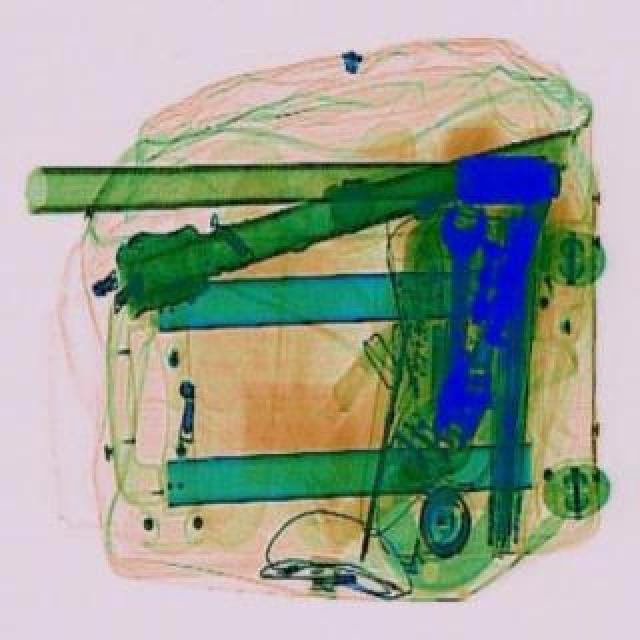scissors: (432, 202, 488, 354)
